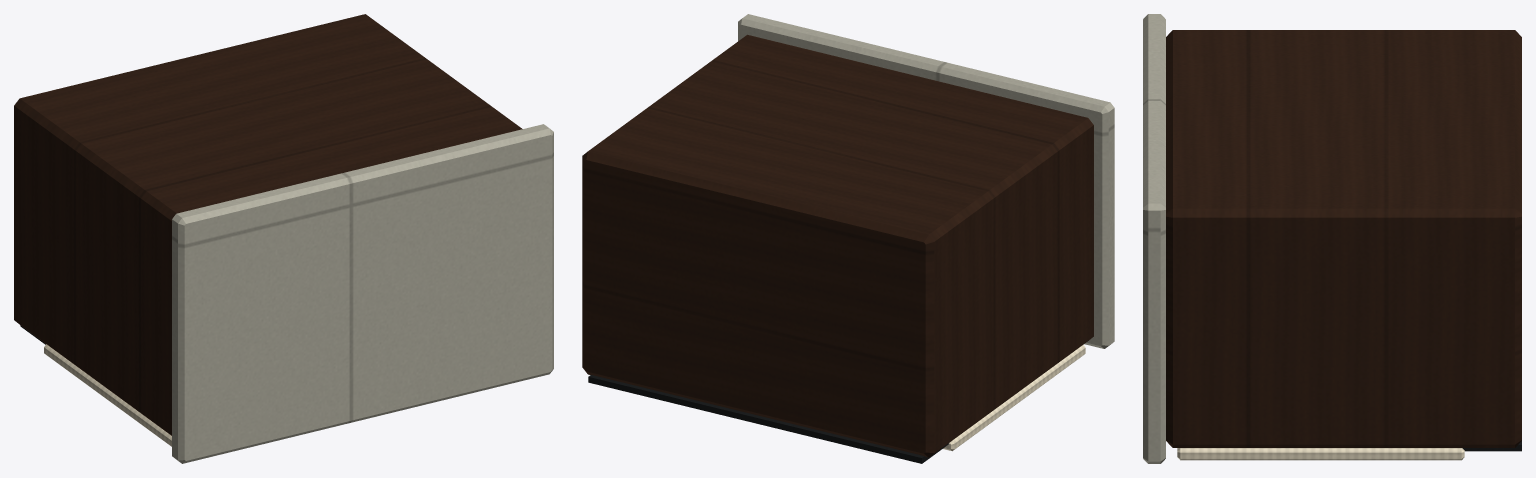
The model's file is master_dresser.obj.
3 renders of one model, left to right at view 1: azimuth 30°, elevation 25°; view 2: azimuth 150°, elevation 25°; view 3: azimuth 270°, elevation 25°, orthographic. The views are drawn at different scales.
Visible parts, largest first — view 1: master_dresser_tile, master_dresser_walnut, master_dresser_linen; view 2: master_dresser_walnut, master_dresser_tile, master_dresser_charcoal, master_dresser_linen; view 3: master_dresser_walnut, master_dresser_tile, master_dresser_linen.
Boxes of the visible parts, left/top/right/bottom form: master_dresser_tile: left=172, top=124, right=553, bottom=463; master_dresser_walnut: left=14, top=14, right=522, bottom=435; master_dresser_linen: left=44, top=344, right=171, bottom=446; master_dresser_walnut: left=582, top=34, right=1093, bottom=457; master_dresser_tile: left=738, top=14, right=1114, bottom=348; master_dresser_charcoal: left=588, top=375, right=948, bottom=463; master_dresser_linen: left=943, top=344, right=1085, bottom=451; master_dresser_walnut: left=1166, top=30, right=1521, bottom=447; master_dresser_tile: left=1143, top=14, right=1165, bottom=463; master_dresser_linen: left=1177, top=448, right=1464, bottom=460.
Size of the model in its own units: 40 by 26.1 by 33.
Materials: 5 (5 with a texture image).
